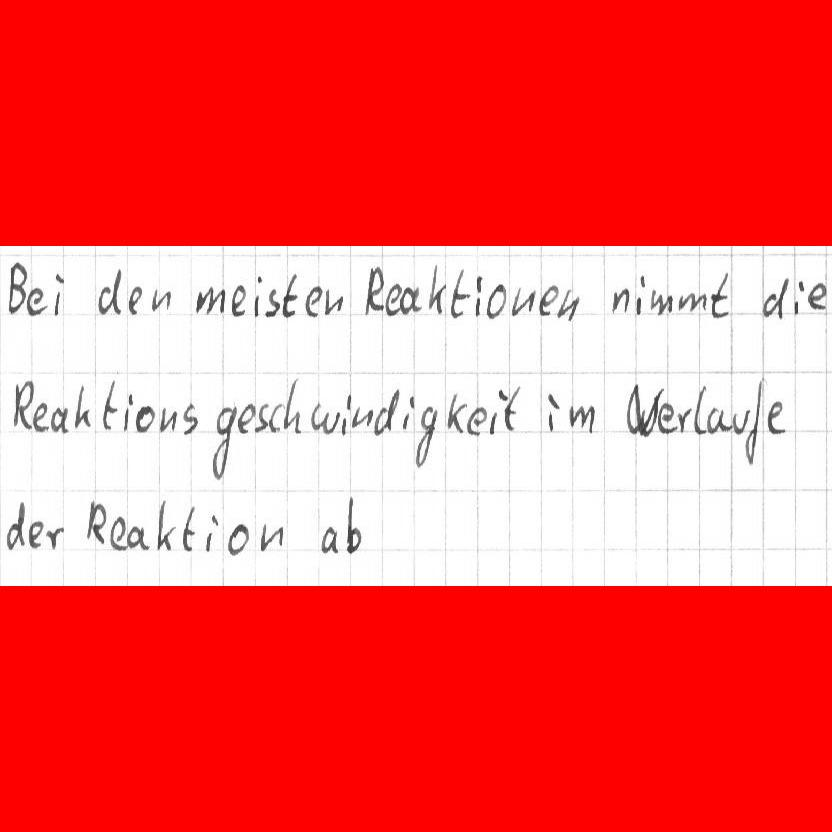Char: (207, 403, 234, 482), (741, 383, 766, 467), (625, 383, 659, 439), (414, 403, 437, 466), (372, 388, 399, 436), (96, 266, 121, 317), (5, 259, 26, 318), (11, 378, 33, 431), (363, 264, 385, 317), (4, 501, 27, 549), (156, 498, 176, 553), (762, 277, 788, 318), (282, 378, 301, 434), (196, 283, 226, 318), (555, 285, 584, 321), (344, 496, 362, 553), (448, 268, 467, 320), (487, 386, 507, 435), (86, 500, 107, 546), (711, 273, 731, 319), (445, 391, 467, 432), (427, 263, 444, 316), (675, 290, 707, 318), (72, 383, 91, 430), (102, 376, 118, 431), (567, 402, 594, 434), (257, 519, 282, 553), (281, 272, 299, 319), (182, 503, 198, 553), (225, 522, 248, 556), (504, 385, 521, 431), (312, 404, 338, 434), (510, 285, 534, 317), (398, 284, 422, 316), (766, 399, 786, 437), (537, 283, 559, 317), (236, 400, 256, 437), (486, 283, 507, 318), (692, 385, 707, 434), (545, 390, 561, 433), (383, 282, 402, 317), (730, 407, 752, 437), (303, 285, 322, 319), (319, 523, 338, 556), (353, 402, 372, 435), (649, 290, 673, 316), (26, 284, 45, 316), (610, 284, 629, 316), (51, 271, 64, 317), (148, 287, 171, 313), (109, 517, 127, 550), (231, 282, 247, 318), (400, 396, 416, 432), (127, 524, 149, 550), (158, 406, 178, 434), (126, 284, 144, 315), (268, 402, 285, 434), (182, 401, 197, 437), (708, 406, 728, 433), (324, 289, 343, 317), (27, 518, 44, 549), (50, 405, 69, 432), (660, 404, 677, 434), (205, 515, 218, 554), (469, 405, 486, 434), (122, 391, 134, 432), (809, 282, 827, 309), (45, 523, 63, 550), (342, 392, 353, 436), (473, 274, 484, 317), (136, 406, 154, 432), (791, 279, 803, 317), (33, 402, 48, 431), (634, 275, 645, 314), (266, 287, 280, 316), (256, 402, 269, 433), (254, 275, 263, 316), (678, 405, 691, 433)
